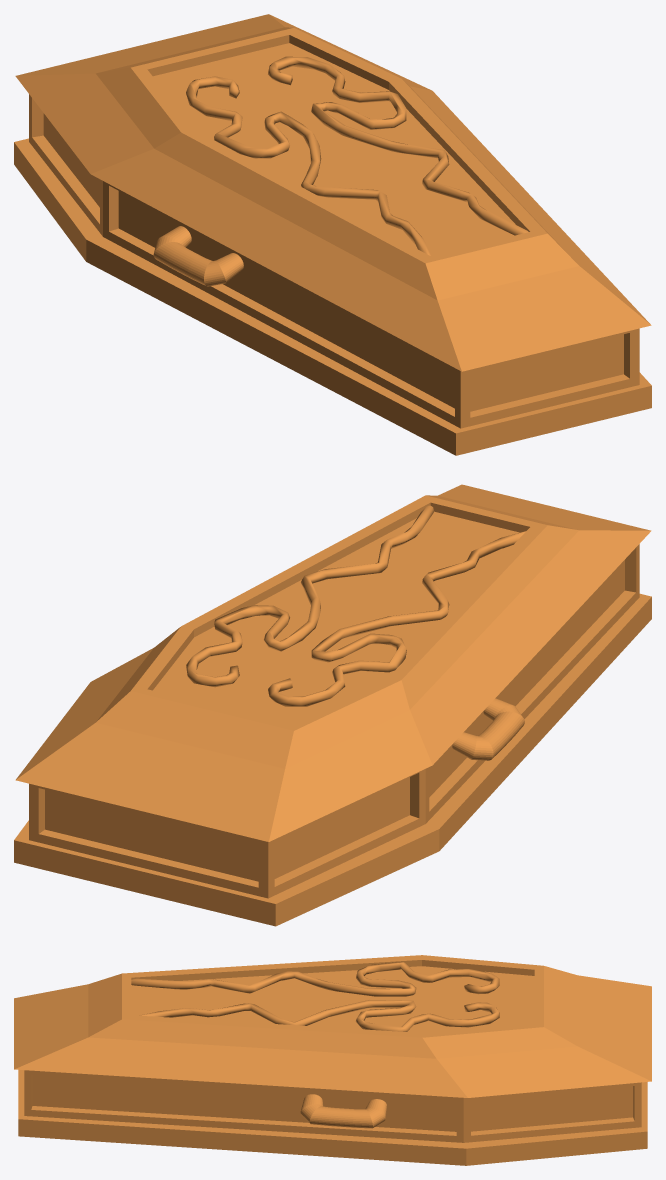
File: Casket.fbx
3 renders of one model, top to bottom at view 1: azimuth 30°, elevation 25°; view 2: azimuth 150°, elevation 25°; view 3: azimuth 270°, elevation 25°, orthographic. The views are drawn at different scales.
Visible parts, largest first — view 1: Cylinder.024; view 2: Cylinder.024; view 3: Cylinder.024.
Boxes of the visible parts, x1=… form: Cylinder.024: x1=14, y1=14, x2=651, y2=455; Cylinder.024: x1=14, y1=484, x2=651, y2=926; Cylinder.024: x1=14, y1=955, x2=651, y2=1165.
Size of the model in its own units: 112 by 41.23 by 227.
